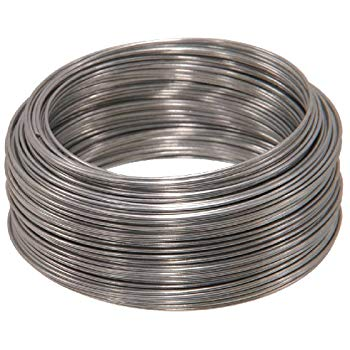Nonrec_Tangler: (1, 33, 346, 316)
